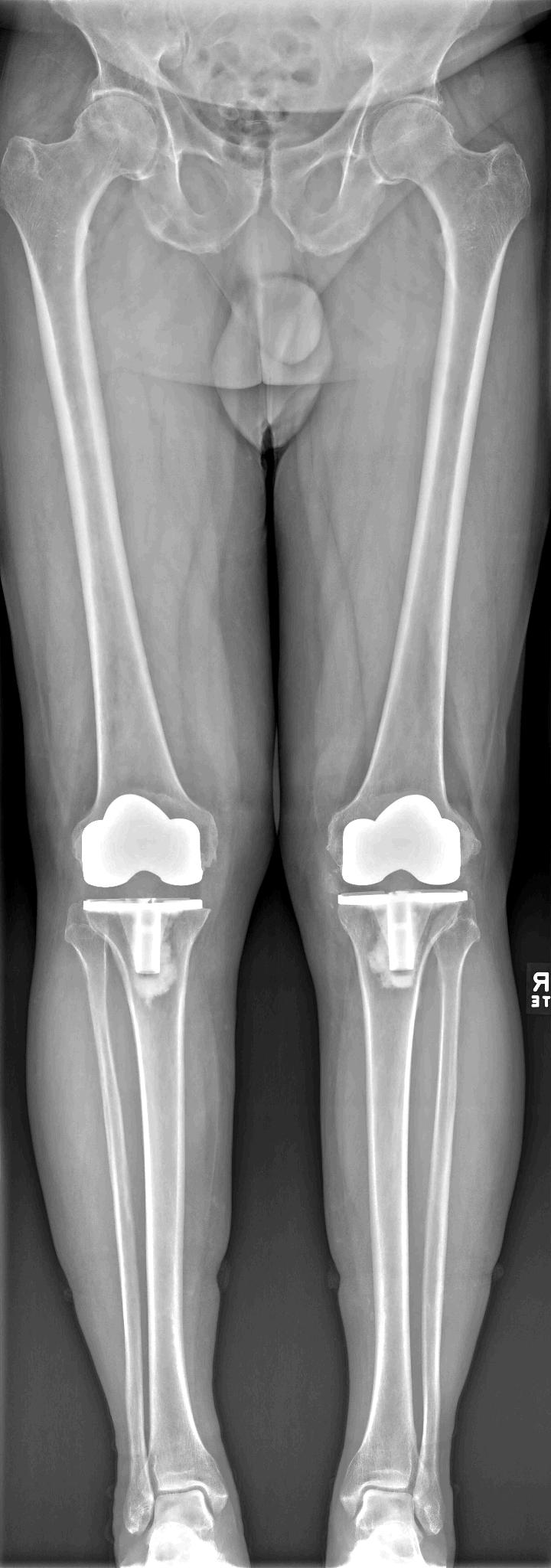Leg Fibula: (66, 906, 153, 1534), (414, 915, 480, 1534)
Leg Tibia: (83, 898, 226, 1510), (339, 890, 466, 1511)
femur: (2, 91, 217, 890), (329, 99, 529, 889)
